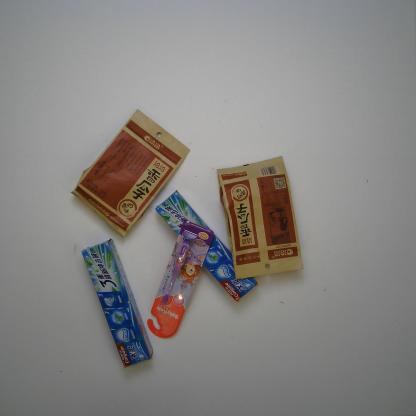Dried Food: (69, 106, 194, 238), (216, 155, 304, 282)
Personal Hygiene: (155, 187, 259, 301), (78, 236, 153, 376), (146, 217, 218, 341)
